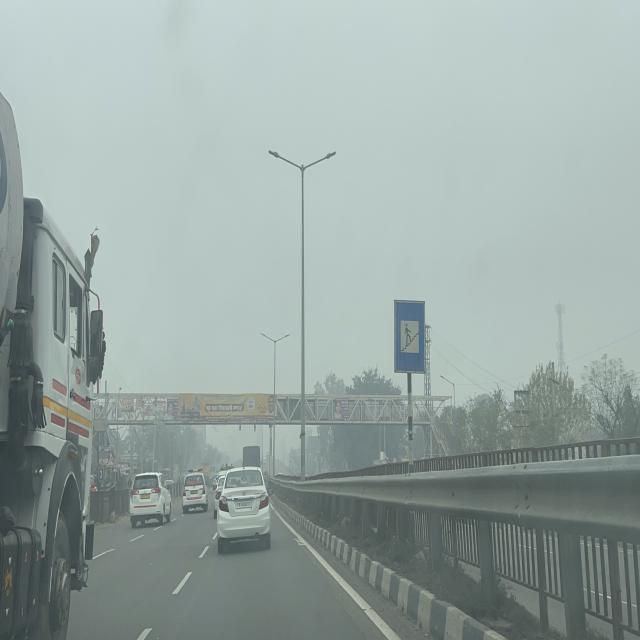INFORMATION: (394, 299, 426, 373)
